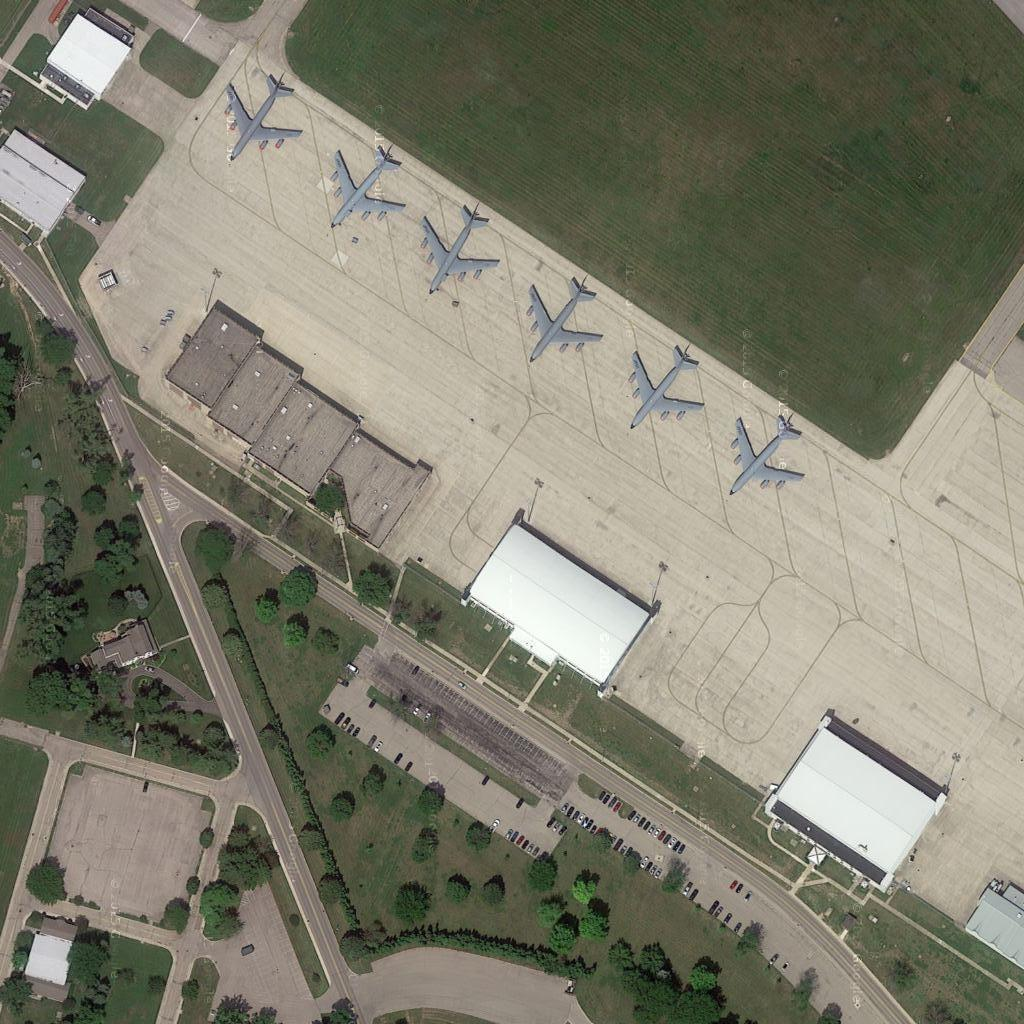KC-135: (215, 67, 302, 168), (723, 403, 810, 504), (417, 200, 505, 298), (323, 142, 409, 237), (519, 272, 605, 367), (621, 343, 708, 435)
